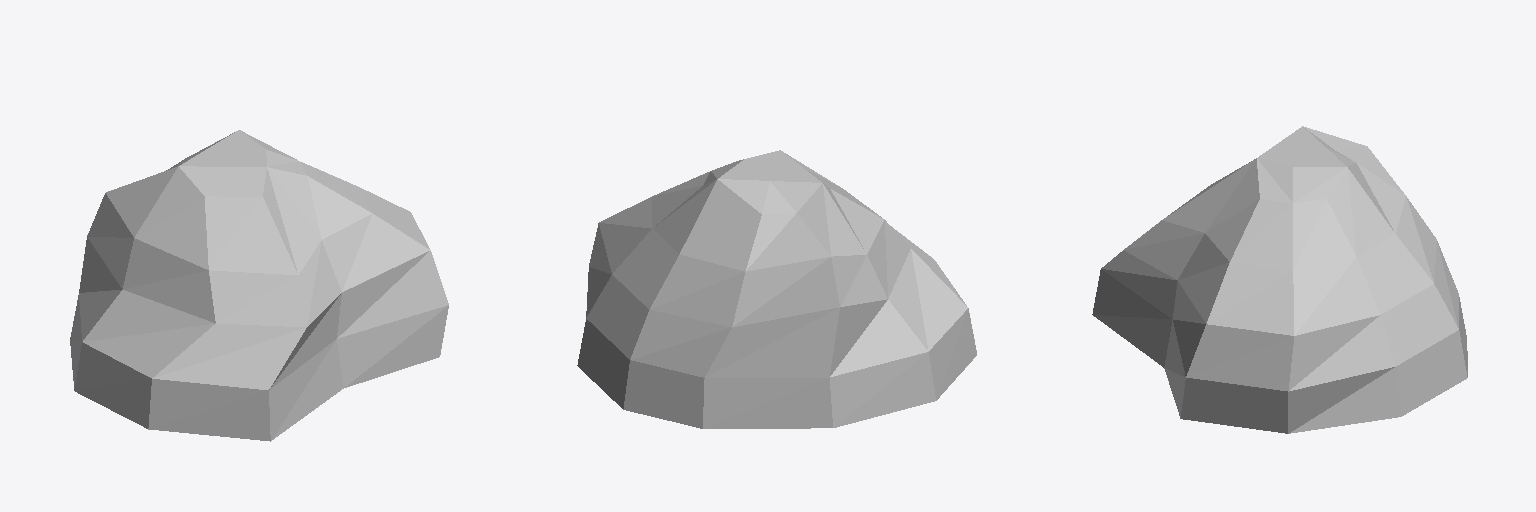
The model's file is Rock2.obj.
3 renders of one model, left to right at view 1: azimuth 30°, elevation 25°; view 2: azimuth 150°, elevation 25°; view 3: azimuth 270°, elevation 25°, orthographic.
Visible parts, largest first — view 1: pasted__pasted__pSphere3 pasted__pasted__pSphere1SmoothProxyGrou; view 2: pasted__pasted__pSphere3 pasted__pasted__pSphere1SmoothProxyGrou; view 3: pasted__pasted__pSphere3 pasted__pasted__pSphere1SmoothProxyGrou.
Part boxes in pixels (x1,y1,x2,y2): pasted__pasted__pSphere3 pasted__pasted__pSphere1SmoothProxyGrou: (70,130,448,441); pasted__pasted__pSphere3 pasted__pasted__pSphere1SmoothProxyGrou: (577,150,976,428); pasted__pasted__pSphere3 pasted__pasted__pSphere1SmoothProxyGrou: (1092,126,1467,433).
Bounding box in the file's own units: 8.6 × 4.58 × 7.99.